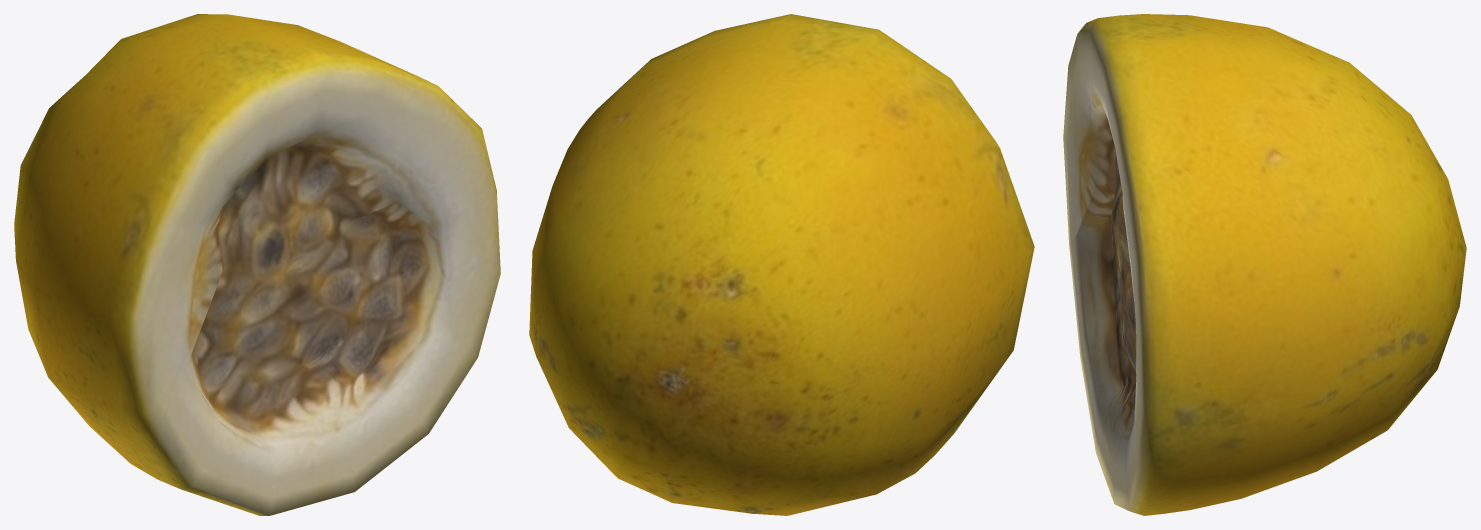
Rendered from A27_Passion_Fruit_low.fbx.
3 views of the same model, side by side, from view 1: azimuth 30°, elevation 25°; view 2: azimuth 150°, elevation 25°; view 3: azimuth 270°, elevation 25° (orthographic). The views are drawn at different scales.
Visible parts, largest first — view 1: A27_Passion_Fruit_low; view 2: A27_Passion_Fruit_low; view 3: A27_Passion_Fruit_low.
Boxes of the visible parts, box(x1,y1,x2,y2) form: A27_Passion_Fruit_low: box(14, 14, 500, 515); A27_Passion_Fruit_low: box(529, 14, 1034, 515); A27_Passion_Fruit_low: box(1063, 14, 1466, 515).
Bounding box in the file's own units: 5.04 × 4.2 × 5.09.
1 material, 1 textured.
